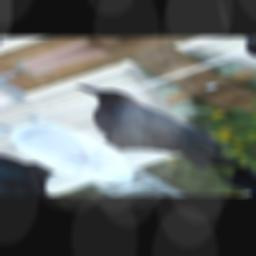Crow: (29, 75, 254, 183)
